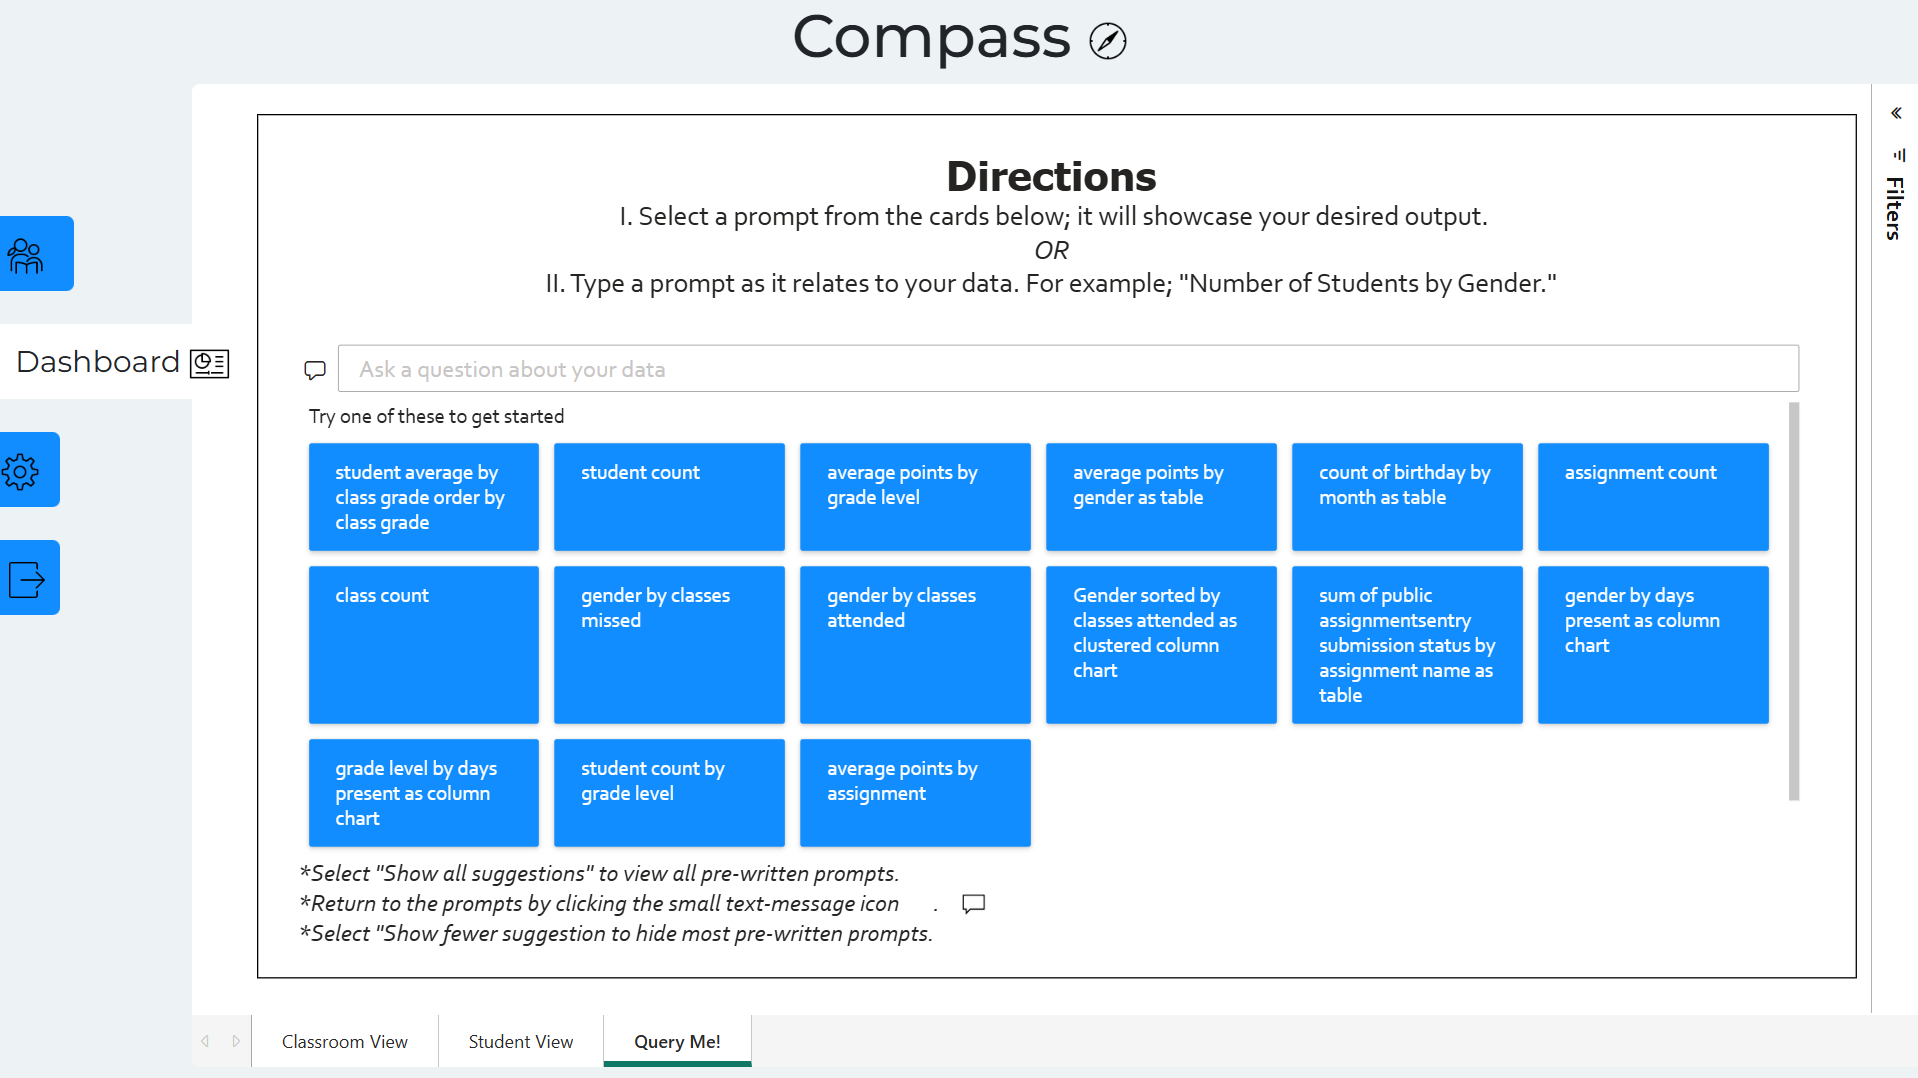

What the dashboard file says about the page in this screenshot:
{"tool":"powerbi","page":{"name":"Query Me!","canvas":[1280,720],"ordinal":2},"visuals":[{"type":"shape","box":[40,23.3,1240,670],"z":0,"group":"g3"},{"type":"group","id":"g1","title":"Group 2","box":[67.2,45.9,1177.9,638.3],"z":1000,"group":"g2"},{"type":"qnaVisual","box":[67.4,177.3,1177.7,430.2],"z":1500,"group":"g1"},{"type":"group","id":"g2","title":"Group 3","box":[66.7,45.9,1178.3,638.3],"z":2000,"group":"g3"},{"type":"textbox","box":[67.4,45.9,1177.7,138.1],"z":2000,"group":"g1"},{"type":"group","id":"g3","title":"Group 4","box":[40,23.3,1240,670],"z":2001},{"type":"textbox","box":[67.2,594.2,1177.7,90],"z":2500,"group":"g4"},{"type":"image","box":[574.4,618,42.9,33.8],"z":3000,"group":"g4"},{"type":"group","id":"g4","title":"Group 1","box":[67.2,594.2,1177.7,90],"z":3003,"group":"g1"}]}

Visuals, with their boxes on the page's 1280x720 design canvas (x1, y1, x2, y2). These are canvas units, not pixel positions in the 1918x1078 screenshot, which may show the page scaled, cropped or inside an application window:
shape: detection(40, 23, 1280, 693)
"Group 2" group: detection(67, 46, 1245, 684)
qnaVisual: detection(67, 177, 1245, 608)
"Group 3" group: detection(67, 46, 1245, 684)
textbox: detection(67, 46, 1245, 184)
"Group 4" group: detection(40, 23, 1280, 693)
textbox: detection(67, 594, 1245, 684)
image: detection(574, 618, 617, 652)
"Group 1" group: detection(67, 594, 1245, 684)
